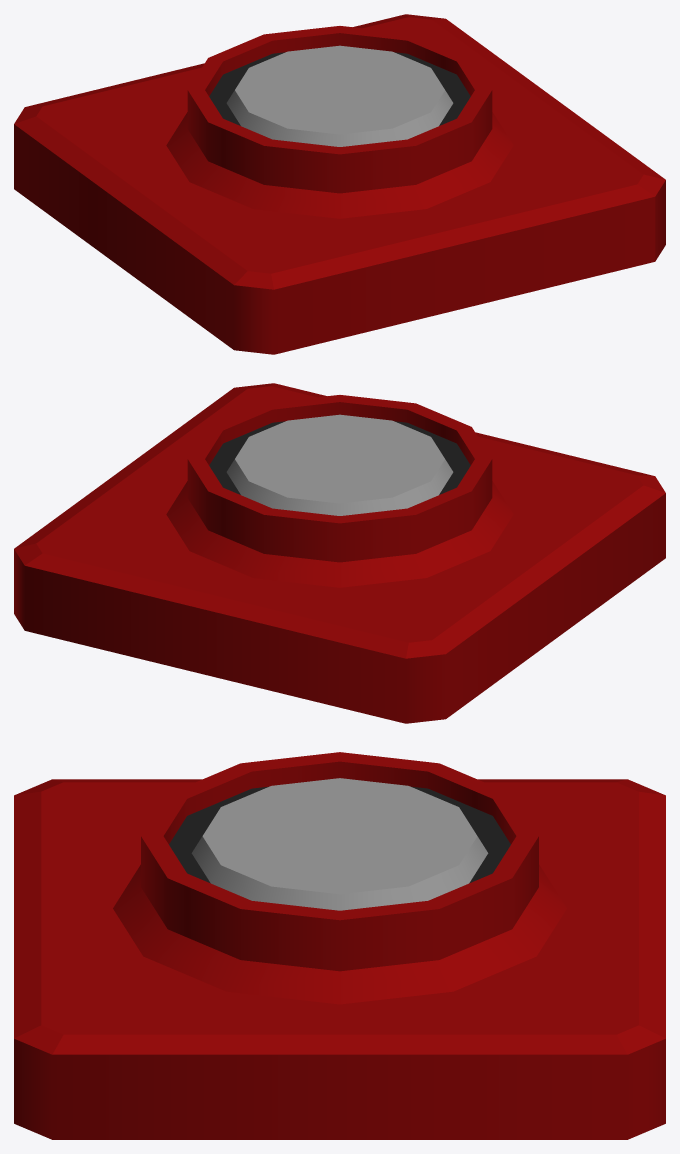
File: SM_Port.fbx
The picture shows the model from 3 angles, top to bottom: view 1: azimuth 30°, elevation 25°; view 2: azimuth 150°, elevation 25°; view 3: azimuth 270°, elevation 25°; orthographic projection. The views are drawn at different scales.
Parts seen in each view (by area): view 1: group_0.002; view 2: group_0.002; view 3: group_0.002.
Part boxes in pixels (bbox=[...]): group_0.002: bbox=[14, 14, 665, 354]; group_0.002: bbox=[14, 383, 665, 723]; group_0.002: bbox=[14, 752, 665, 1139].
Bounding box in the file's own units: 100 × 28.08 × 100.
